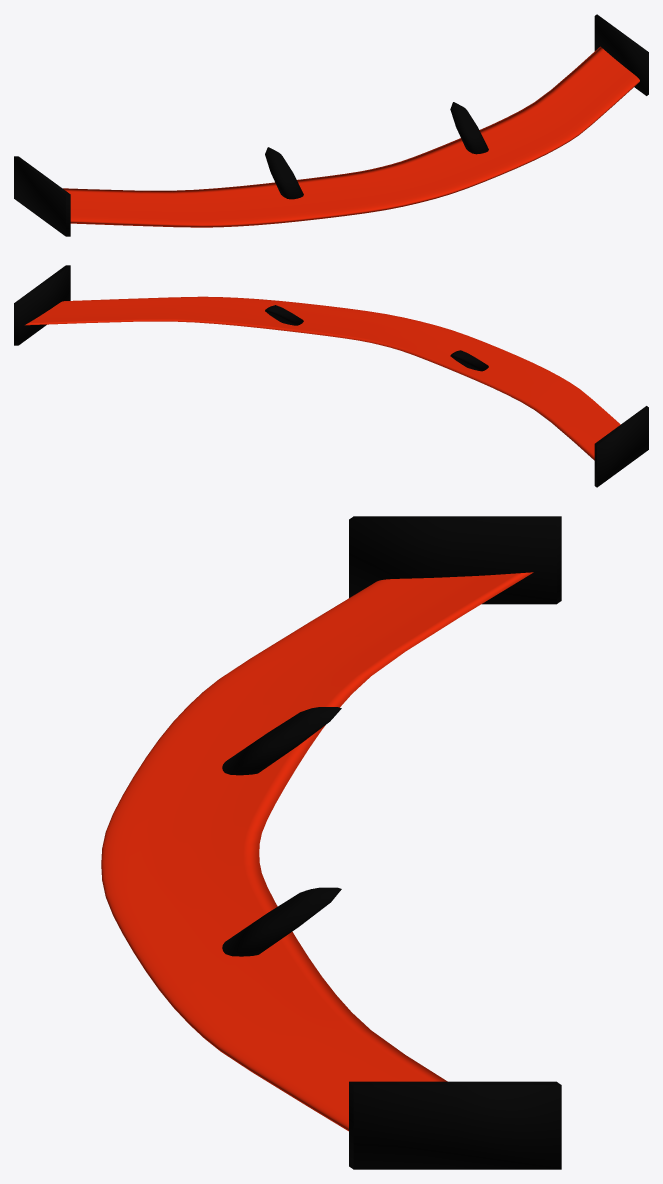
3 views of the same model, one above another, from view 1: azimuth 30°, elevation 25°; view 2: azimuth 150°, elevation 25°; view 3: azimuth 270°, elevation 25° (orthographic). The views are drawn at different scales.
Visible parts, largest first — view 1: FW2; view 2: FW2; view 3: FW2.
Boxes of the visible parts, <box> form: FW2: <box>14,14,648,236</box>; FW2: <box>14,265,648,487</box>; FW2: <box>101,516,561,1169</box>.
Bounding box in the file's own units: 2.5 × 0.1801 × 0.8564.
